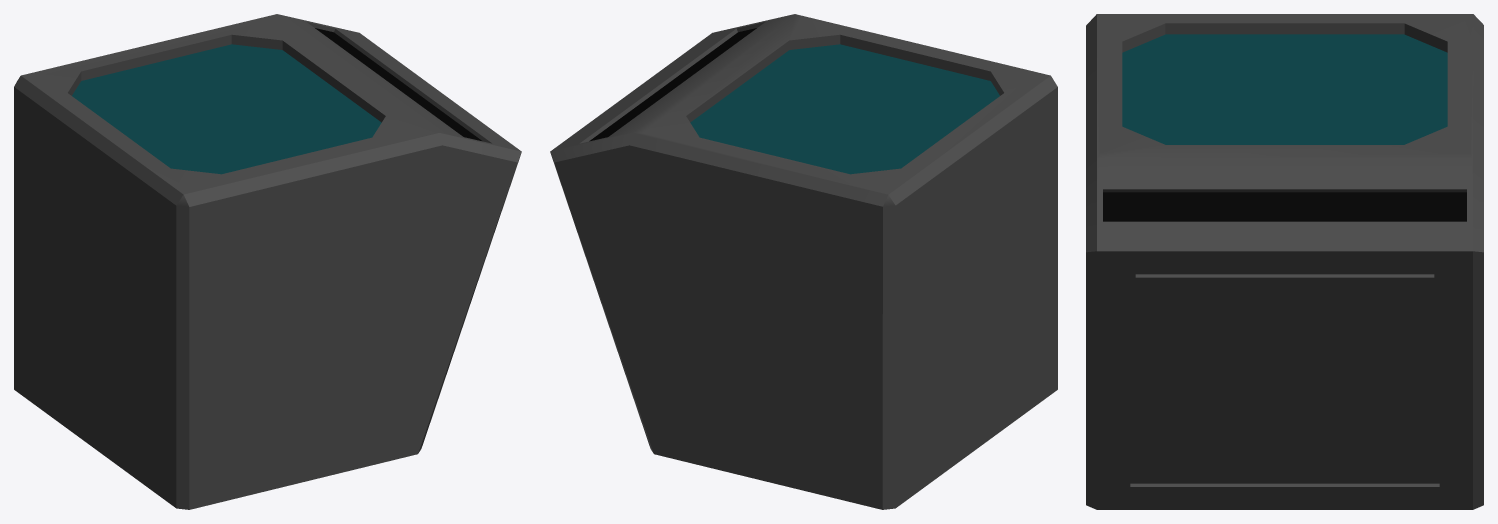
File: Distributeur.fbx
3 views of the same model, side by side, from view 1: azimuth 30°, elevation 25°; view 2: azimuth 150°, elevation 25°; view 3: azimuth 270°, elevation 25° (orthographic). The views are drawn at different scales.
Parts seen in each view (by area): view 1: distributeur; view 2: distributeur; view 3: distributeur.
Boxes of the visible parts, x1,y1,x2,y2 form: distributeur: (14,14,521,509); distributeur: (550,14,1057,509); distributeur: (1086,14,1483,509).
Bounding box in the file's own units: 1.16 × 1 × 1.
